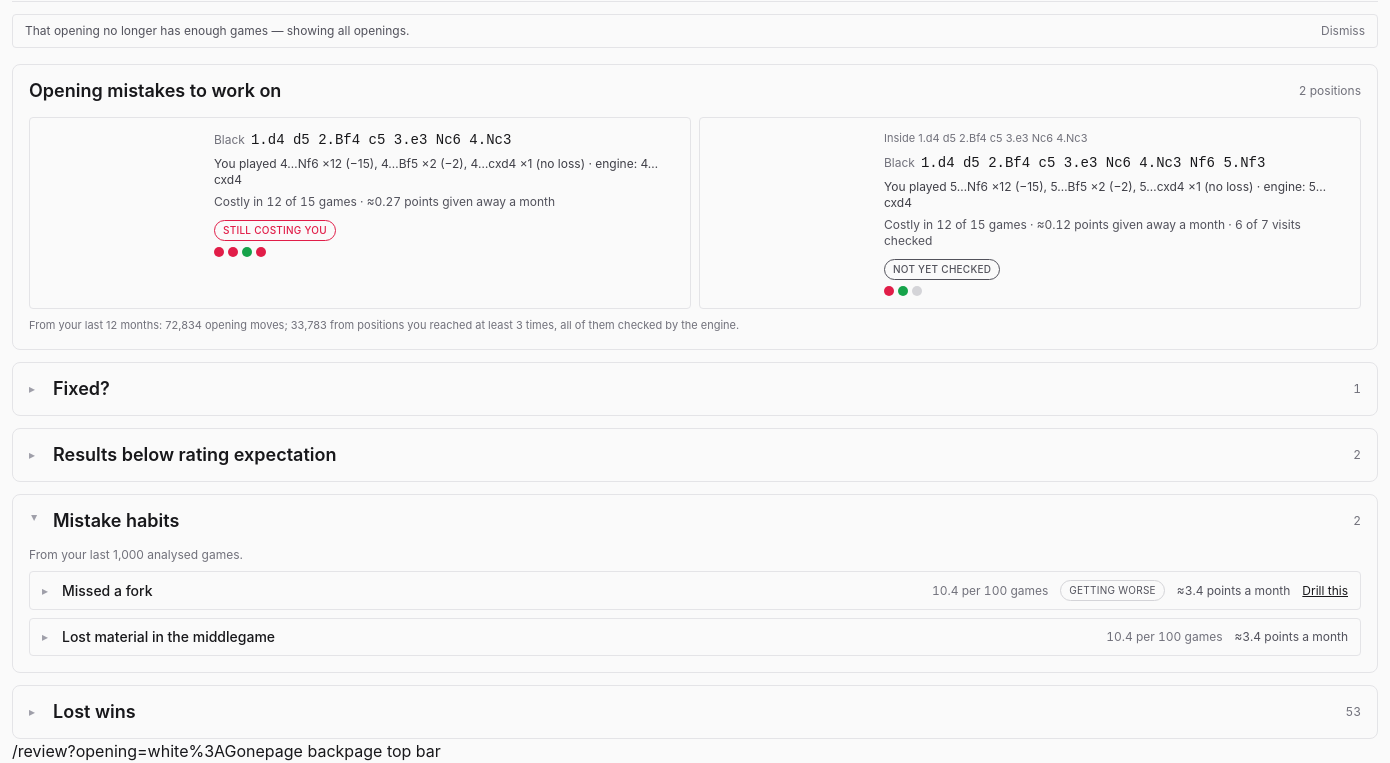
Test: Review page › a notice from a recovery does not outlive a top-bar visit with the same settings
(page scrolled)
Expected: the message "That opening no longer has enough games — showing all openings. Dismiss" is shown, left=12, top=14, right=1378, bottom=48
Click the link "page top bar": (393, 751) left=344, top=741, right=441, bottom=761
(page scrolled)
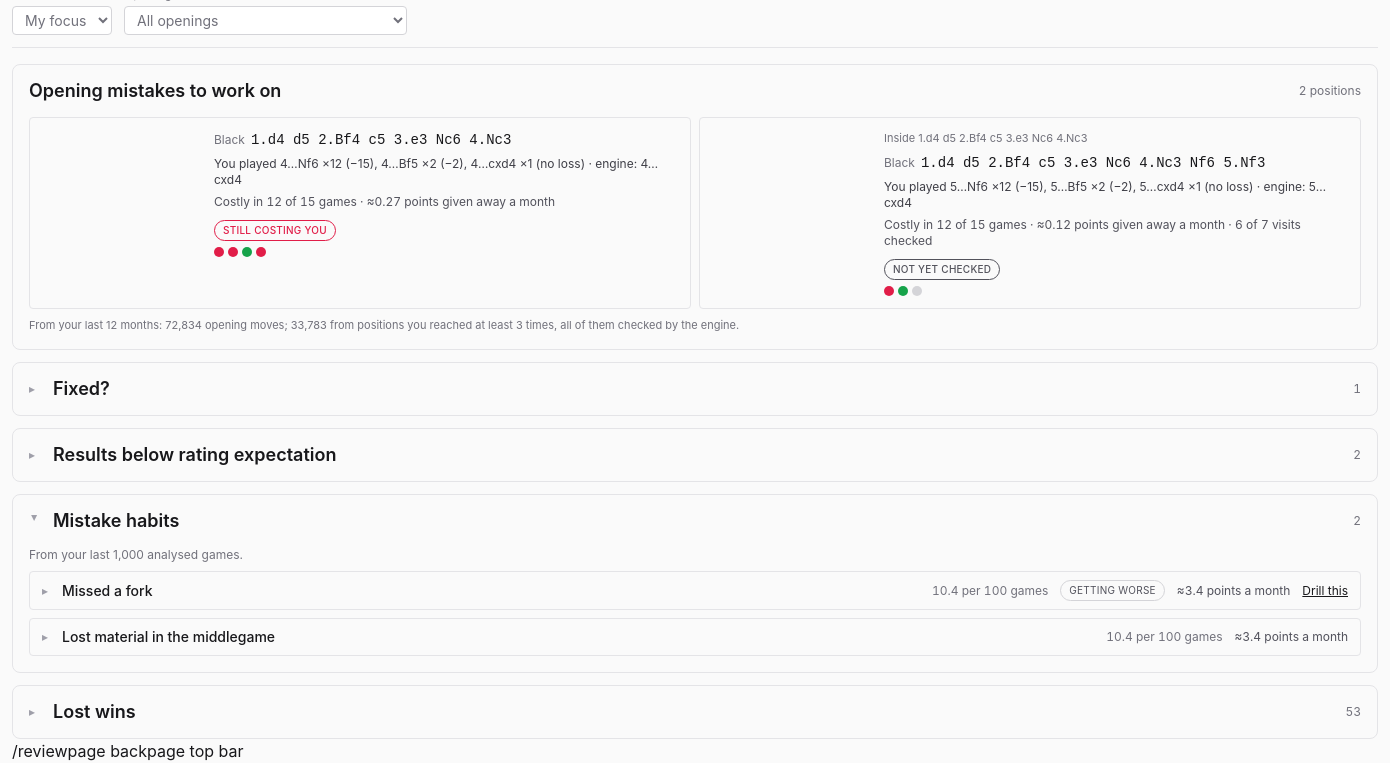
Expected: the message "That opening no longer has enough games — showing all openings. Dismiss" is gone
